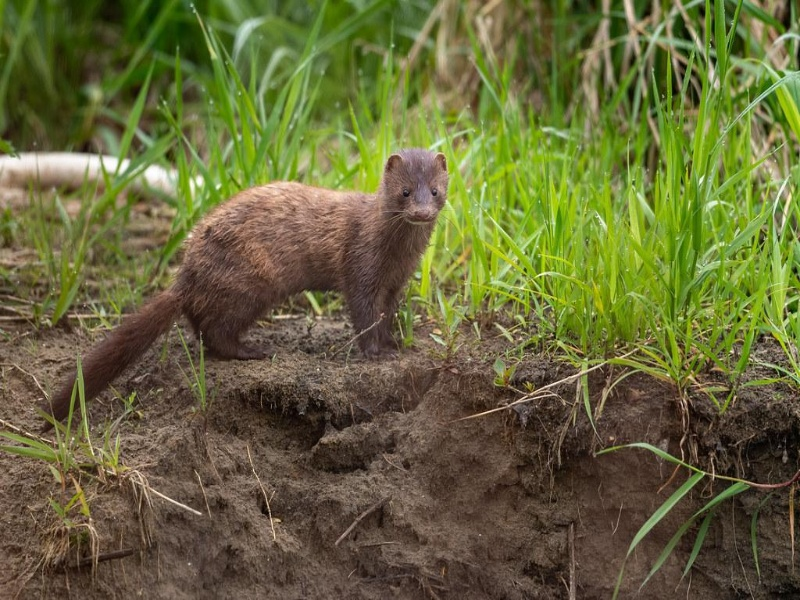minkish: (42, 143, 450, 432)
